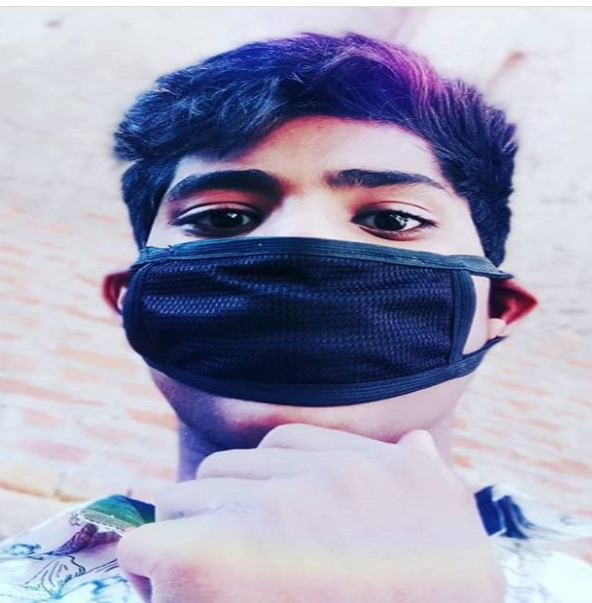mask_weared_incorrect: (99, 34, 532, 457)
